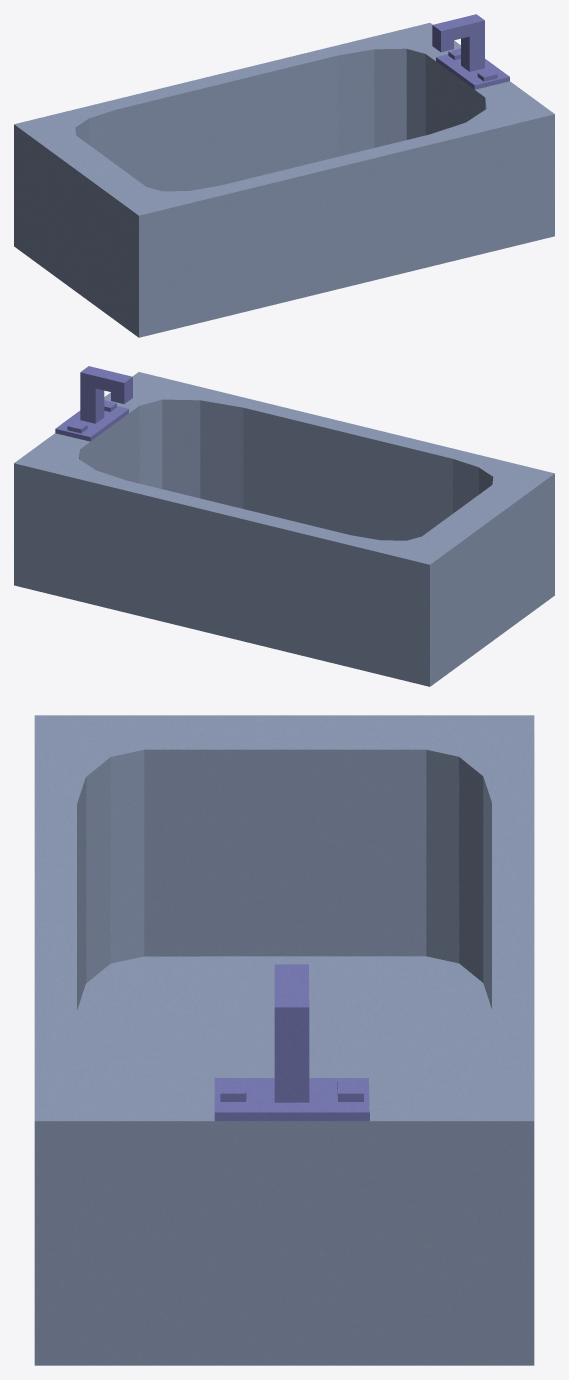
The model's file is HLBath.fbx.
3 views of the same model, one above another, from view 1: azimuth 30°, elevation 25°; view 2: azimuth 150°, elevation 25°; view 3: azimuth 270°, elevation 25° (orthographic). The views are drawn at different scales.
Visible parts, largest first — view 1: HallowLightBathtub; view 2: HallowLightBathtub; view 3: HallowLightBathtub.
Part boxes in pixels (box(x1,y1,x2,y2)): HallowLightBathtub: box(14, 14, 554, 337); HallowLightBathtub: box(14, 366, 554, 686); HallowLightBathtub: box(34, 715, 534, 1365).
Bounding box in the file's own units: 147 × 58.88 × 76.49.
